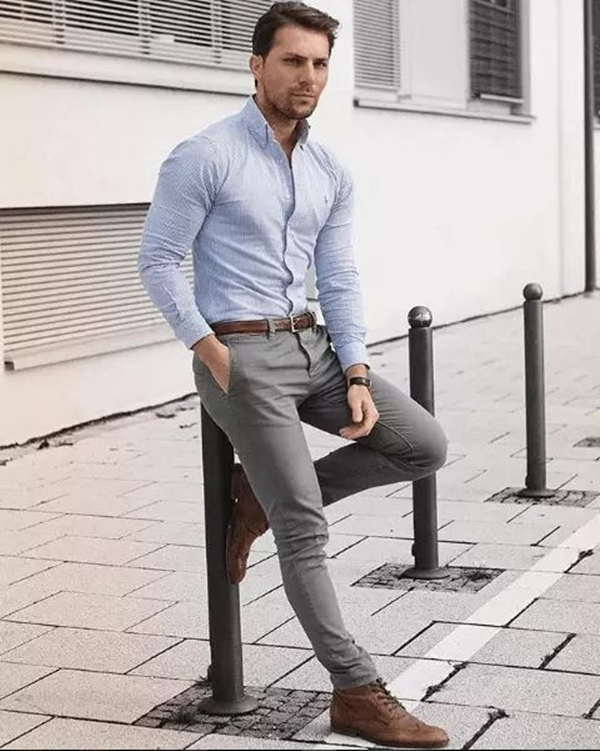F_belt: (194, 303, 330, 340)
F_shirt: (133, 105, 371, 370)
